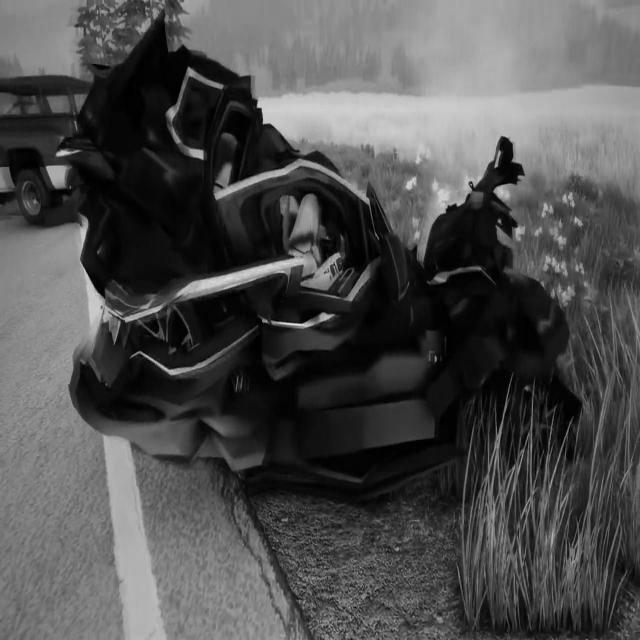severe: (55, 11, 578, 510)
